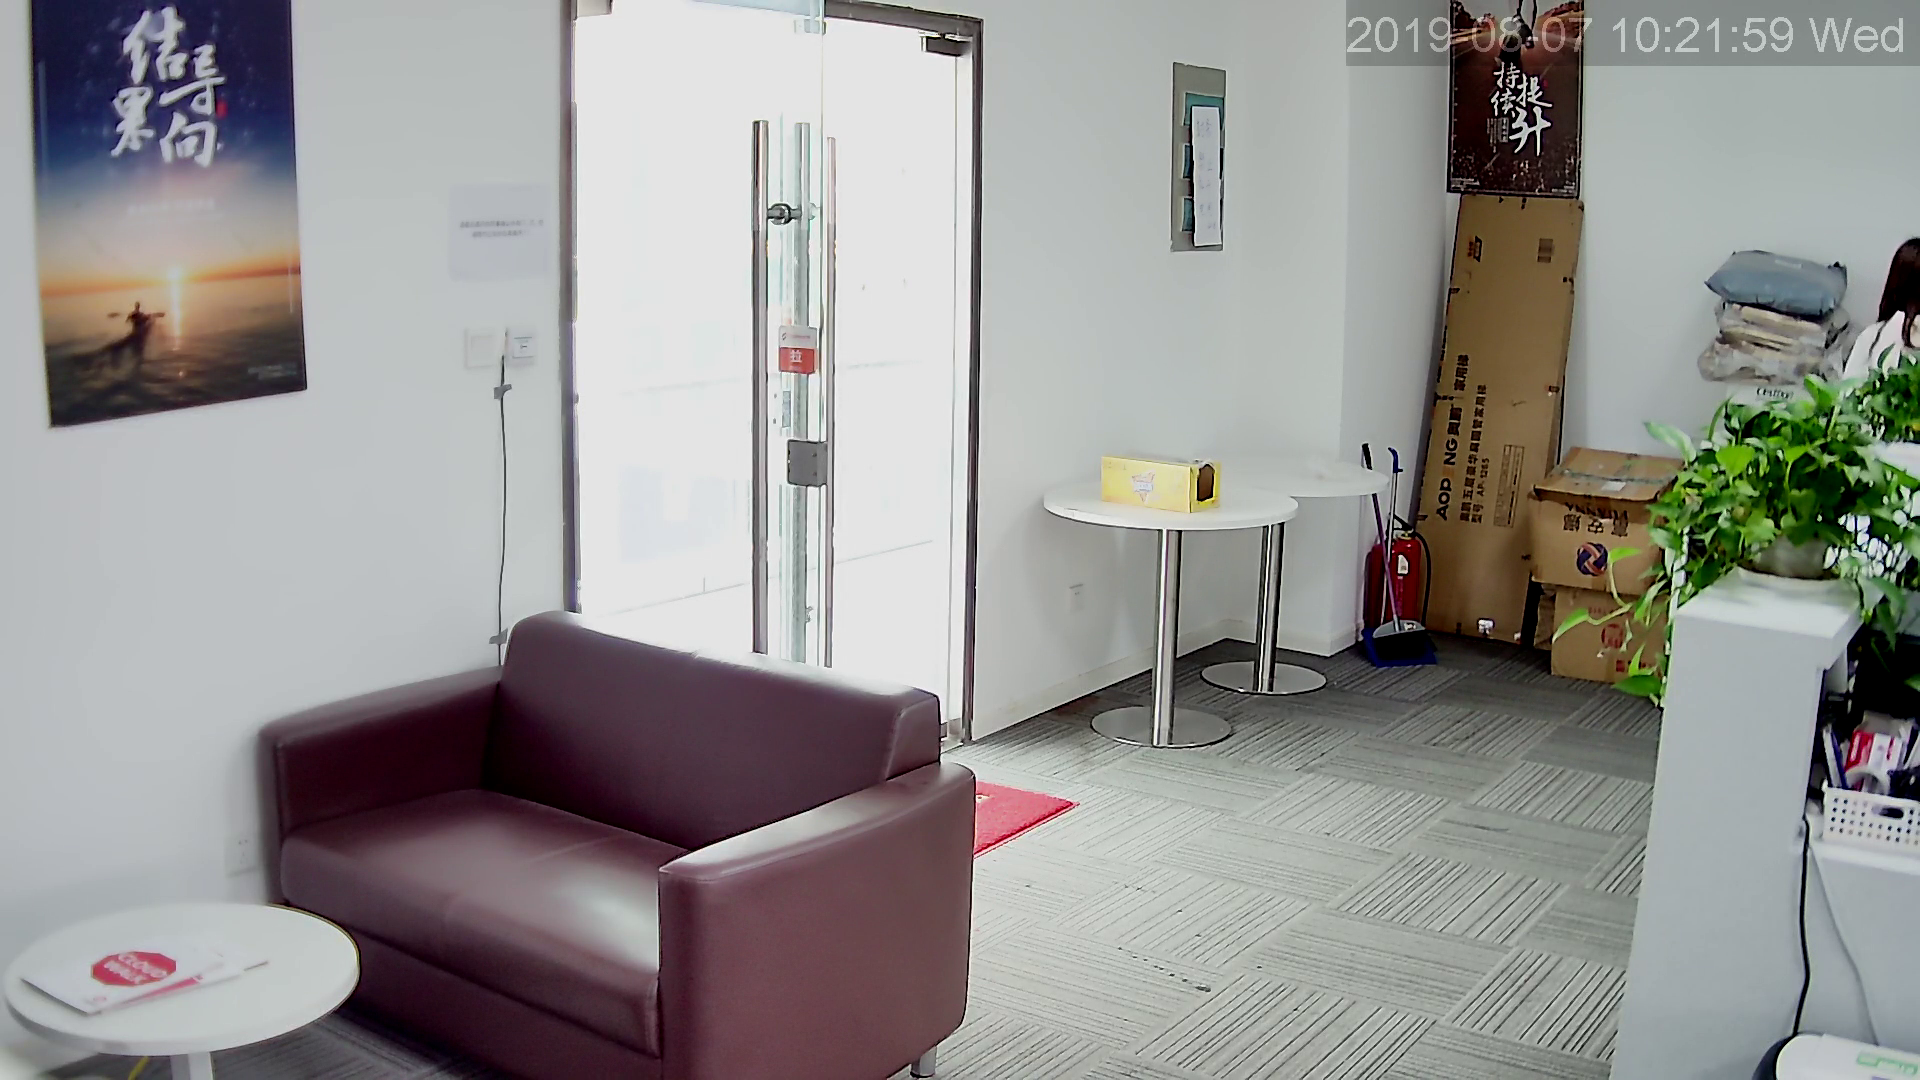bill: (33, 1, 309, 429), (1451, 3, 1582, 196)
